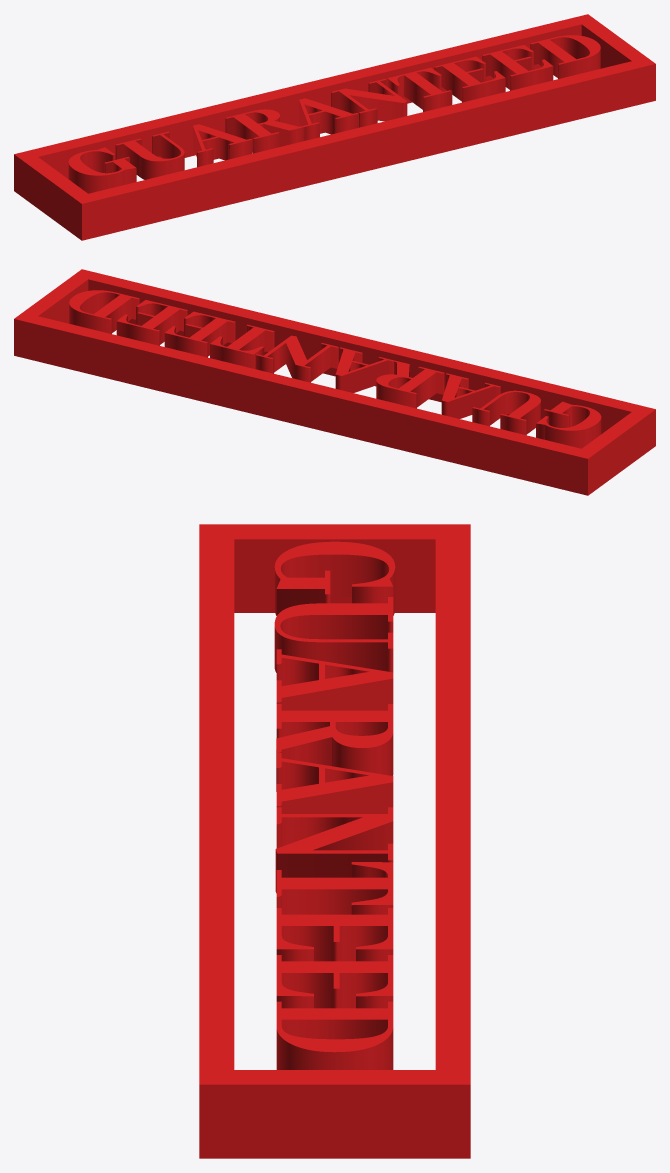
The model's file is geek.glb.
3 renders of one model, top to bottom at view 1: azimuth 30°, elevation 25°; view 2: azimuth 150°, elevation 25°; view 3: azimuth 270°, elevation 25°, orthographic. The views are drawn at different scales.
Parts seen in each view (by area): view 1: Plane, Text; view 2: Plane, Text; view 3: Plane, Text.
Part boxes in pixels (x1,y1,x2,y2): Plane: (14,14,655,240); Text: (68,35,600,193); Plane: (14,269,655,495); Text: (69,290,601,448); Plane: (199,524,470,1158); Text: (274,541,395,1069).
Size of the model in its own units: 5.68 by 0.3846 by 1.16.
